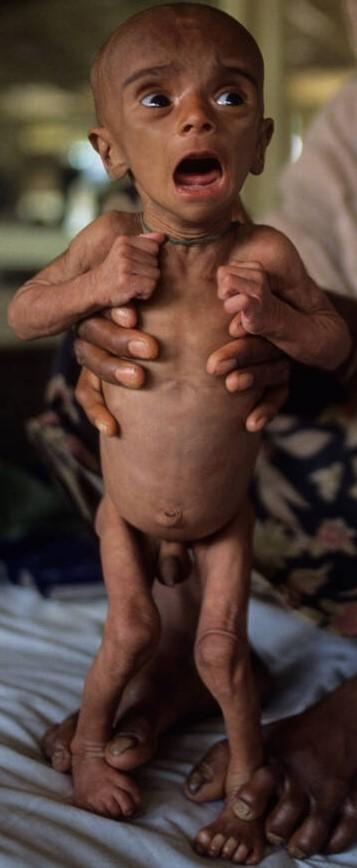Stunting: (82, 5, 295, 230)
